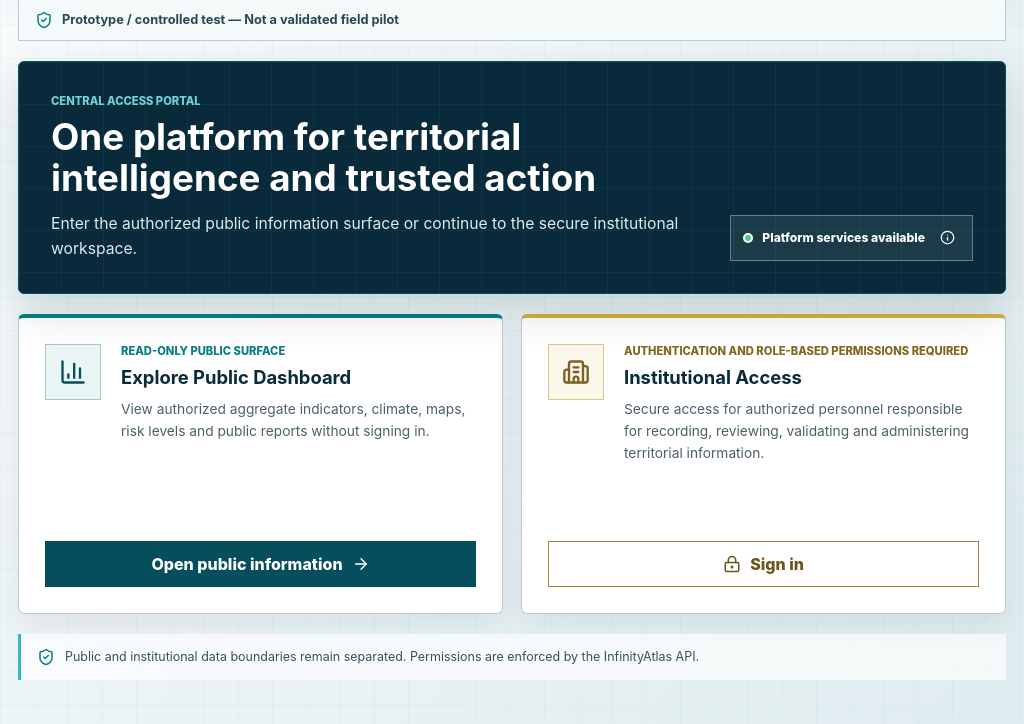
it: Sprint 1B application › gives validators decisions, evidence, transparent risk and append-only history
(page scrolled)
Step 1. Click the button "Sign in" → (764, 564), box [548, 541, 979, 587]
(page scrolled)
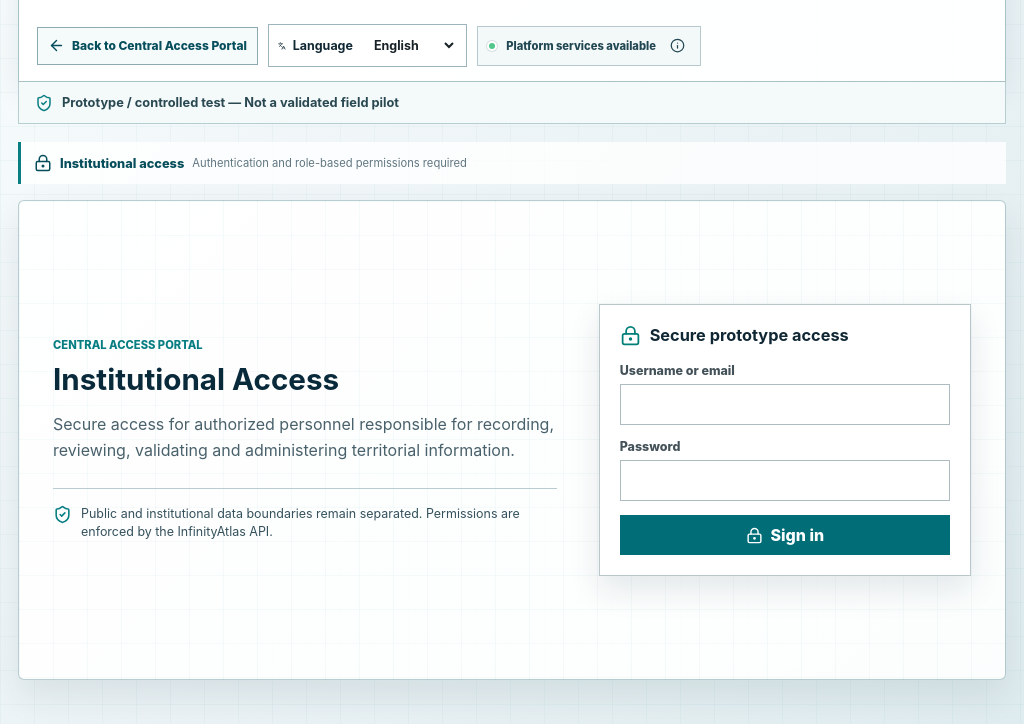
expect the field labelled "Username or email" is shown: met
Step 2. Type "demo-validator" into the field labelled "Username or email" → (785, 405), box [620, 384, 950, 425]
Step 3. Type "local-password" into the password field labelled "Password" → (785, 481), box [620, 460, 950, 501]
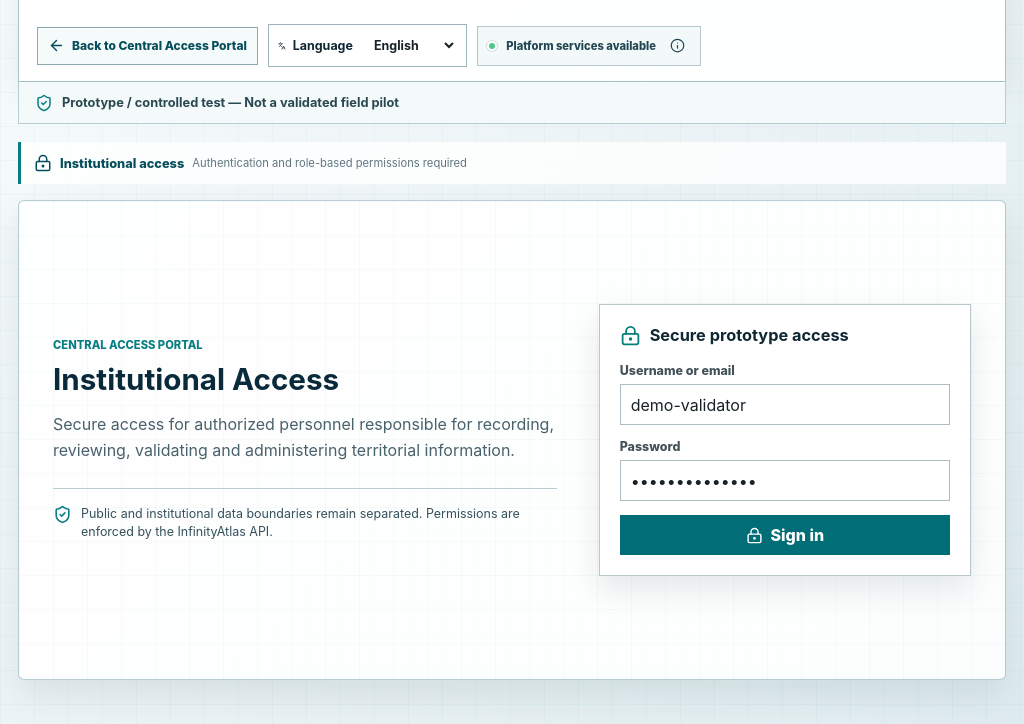
Step 4. Click the button "Sign in" → (785, 535), box [620, 515, 950, 555]
(page scrolled)
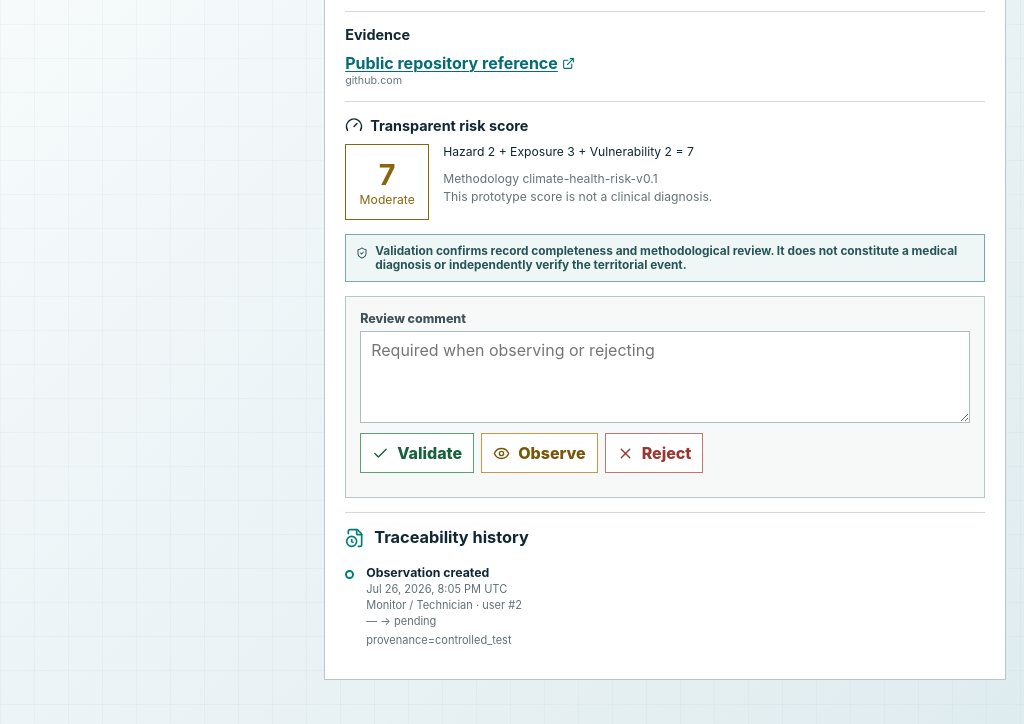
expect the text "Hazard 2 + Exposure 3 + Vulnerability 2 = 7" is shown: met, box [443, 144, 694, 159]
expect the text "Observation created" is shown: met, box [366, 565, 489, 580]
expect the text "does not constitute a medical diagnosis" is shown: met, box [375, 244, 957, 272]
Step 5. Click the button "Observe" → (539, 453), box [481, 433, 598, 473]
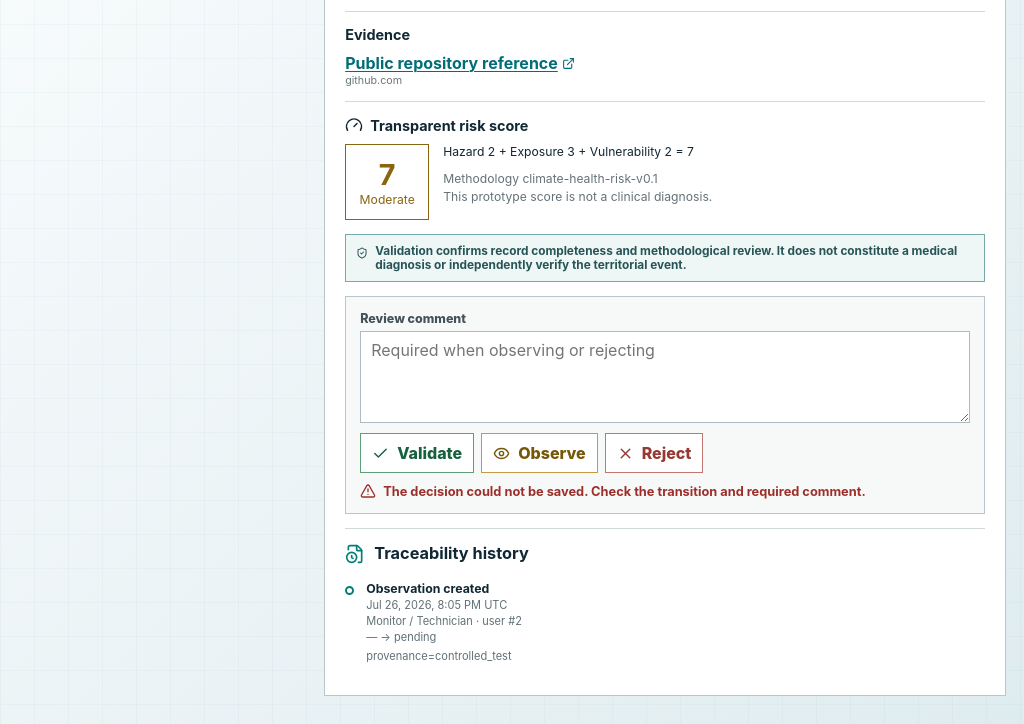
expect the message shows "required comment": met, box [383, 484, 866, 499]
Step 6. Type "Clarify capture time." into the text box labelled "Review comment" → (665, 377), box [360, 331, 970, 423]
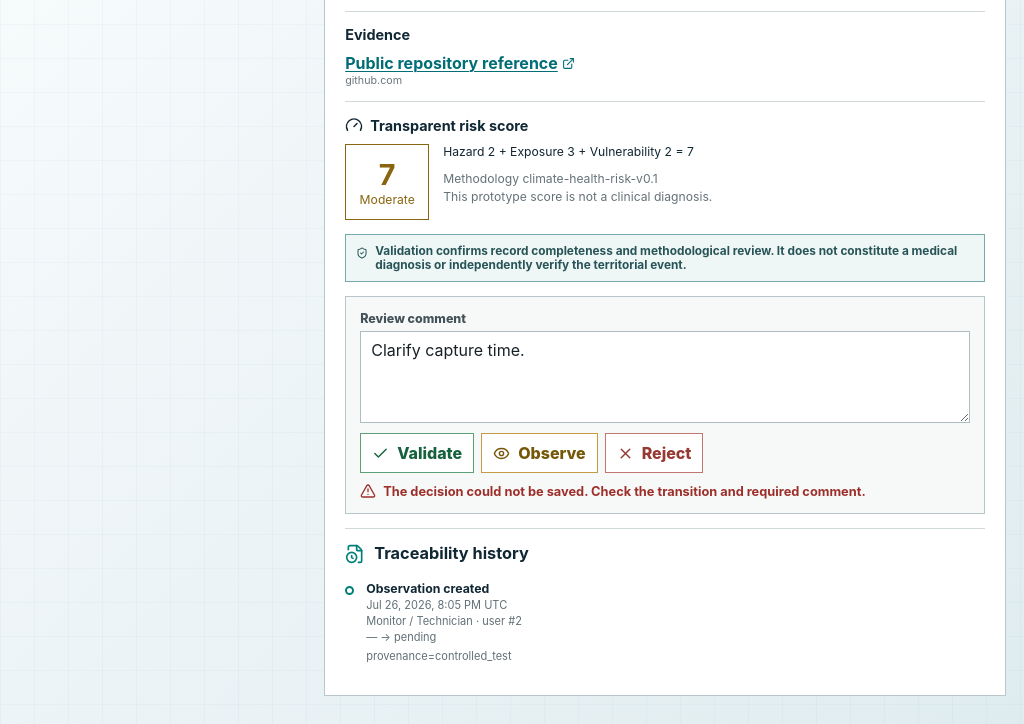
Step 7. Click the button "Observe" → (539, 453), box [481, 433, 598, 473]
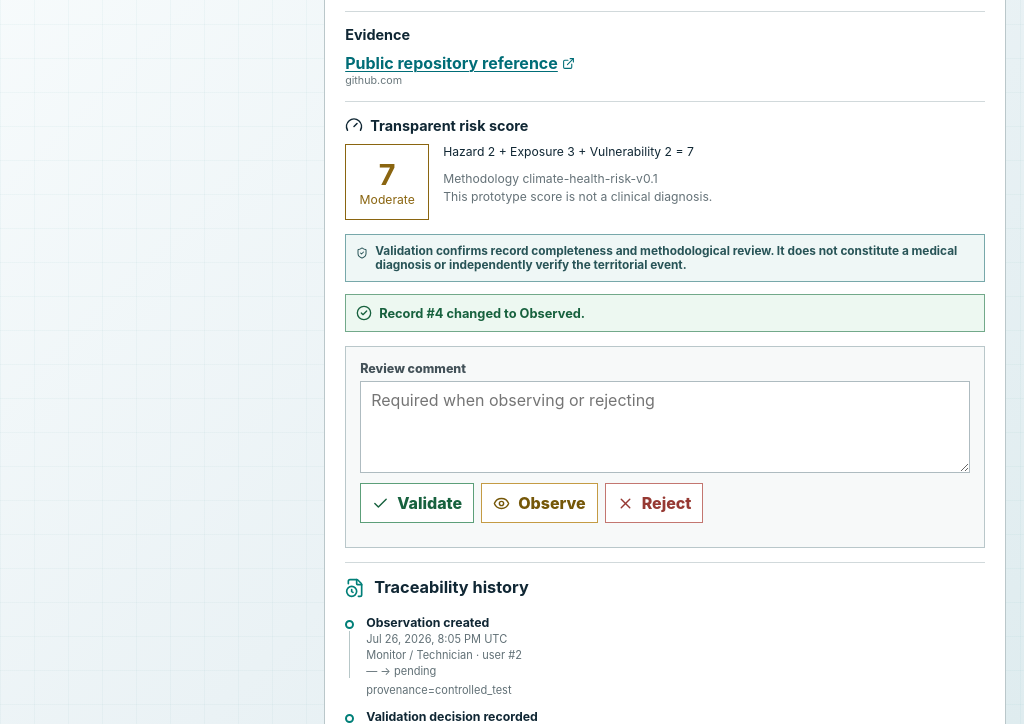
expect the text "Record #4 changed to Observed." is shown: met, box [345, 294, 985, 332]
expect the text "Validation decision recorded" is shown: met, box [366, 709, 538, 723]
